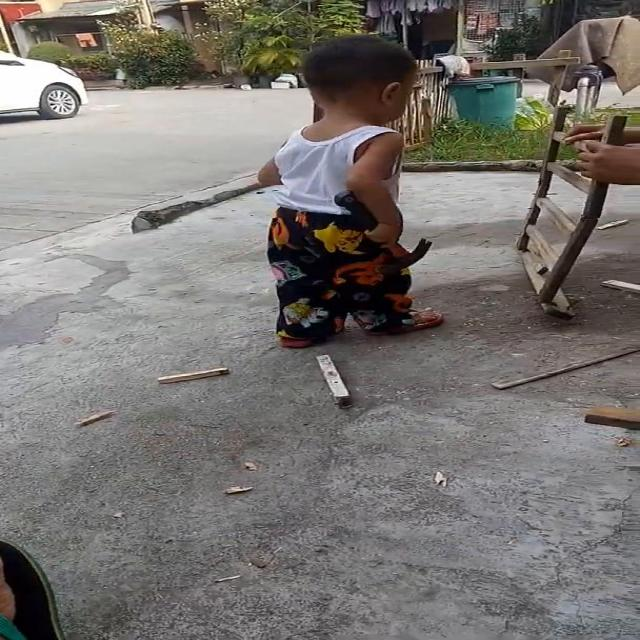hammer: (334, 191, 432, 277)
